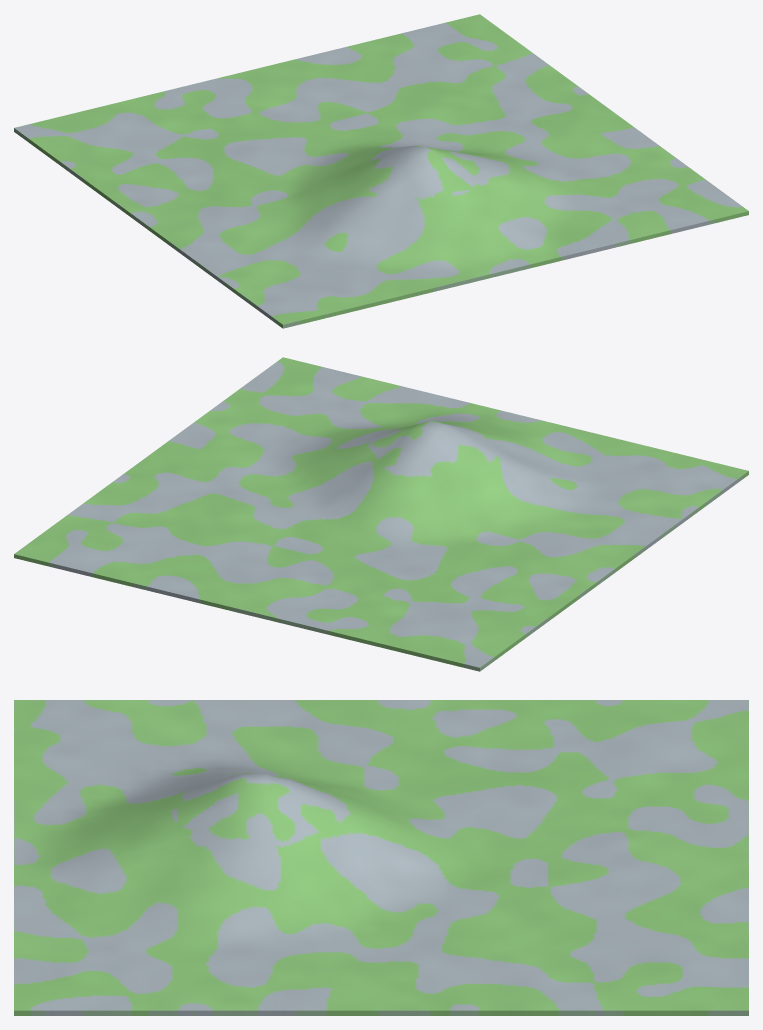
Rendered from Grass_RockyGround_08.obj.
The picture shows the model from 3 angles, top to bottom: view 1: azimuth 30°, elevation 25°; view 2: azimuth 150°, elevation 25°; view 3: azimuth 270°, elevation 25°; orthographic projection. The views are drawn at different scales.
Bounding box in the file's own units: 10 × 1.21 × 10.
1 material, 1 textured.
